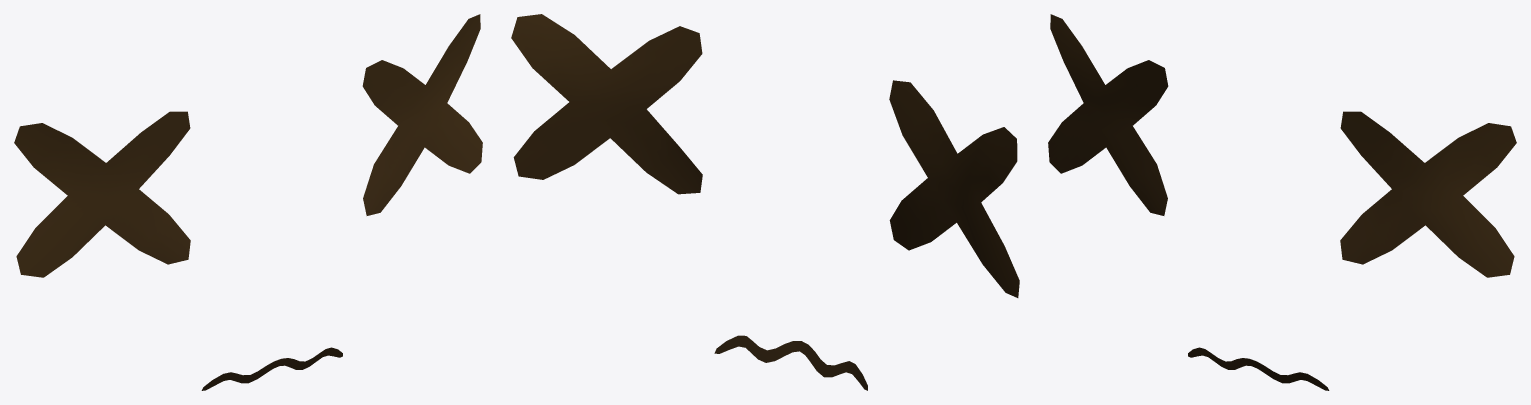
File: Face Dead.fbx
The picture shows the model from 3 angles, left to right: view 1: azimuth 30°, elevation 25°; view 2: azimuth 150°, elevation 25°; view 3: azimuth 330°, elevation 25°; orthographic projection. The views are drawn at different scales.
Parts seen in each view (by area): view 1: Plane; view 2: Plane; view 3: Plane.
Part boxes in pixels (<box>): Plane: <box>14,14,482,390</box>; Plane: <box>511,14,1019,390</box>; Plane: <box>1048,14,1516,390</box>.
Bounding box in the file's own units: 34.36 × 20.48 × 4.38.
Materials: 1 (1 with a texture image).
